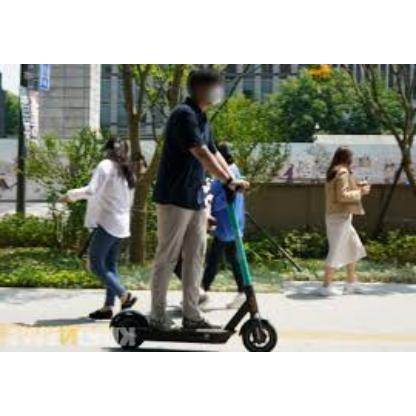with scooter: (110, 71, 278, 352)
without scooter: (62, 136, 139, 320), (188, 142, 246, 309), (316, 148, 370, 297)
